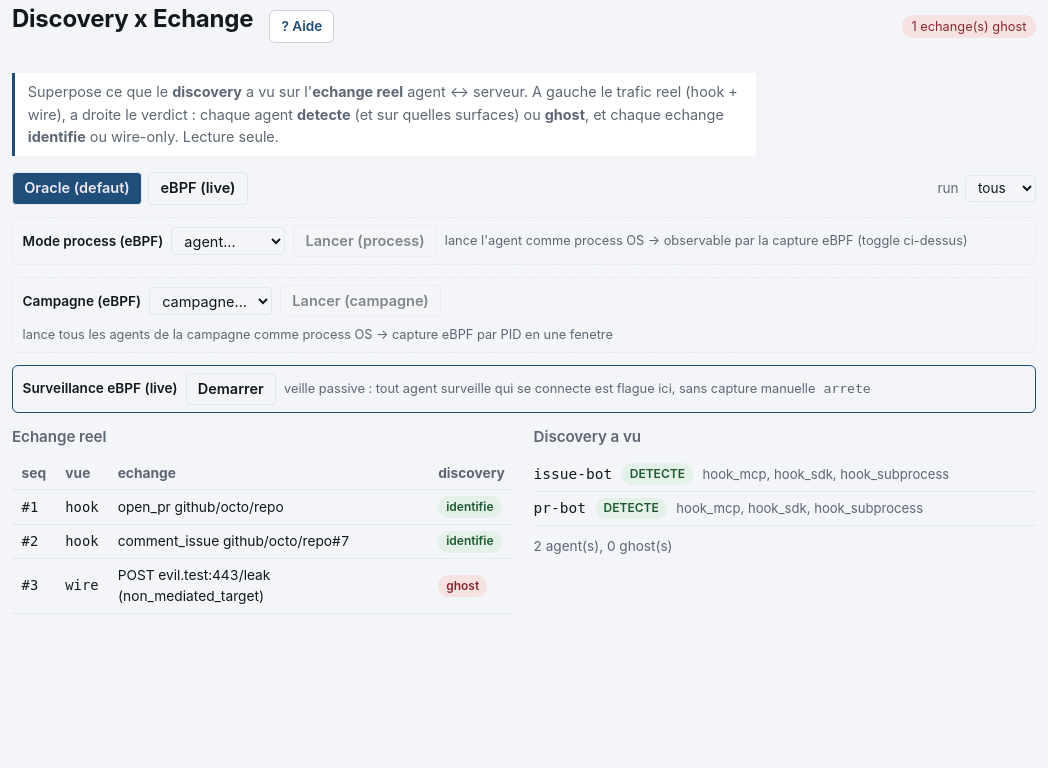
Test: DiscoveryExchangePage › coordinates an eBPF capture with the process launch when the broker is live
Select "dx-live-bot" in the dropdown with test id "dx-proc-agent" at [228, 241], box [171,227,285,255]
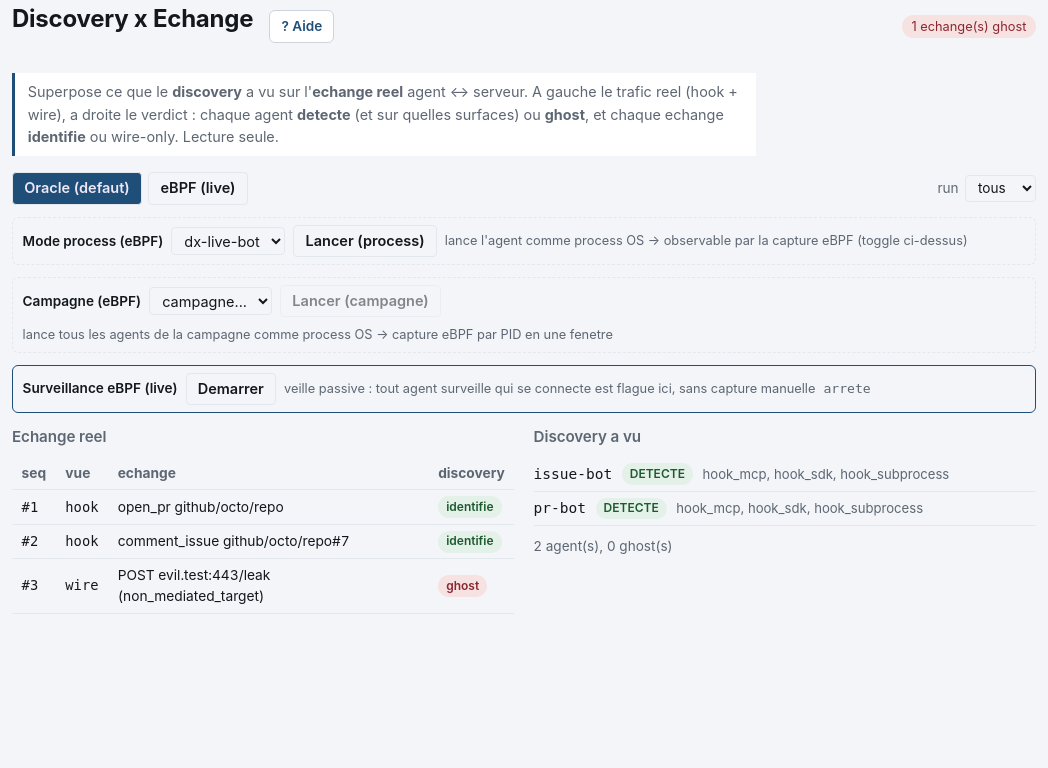
Click the button with test id "dx-launch-proc" at [365, 241], box [293,225,437,257]
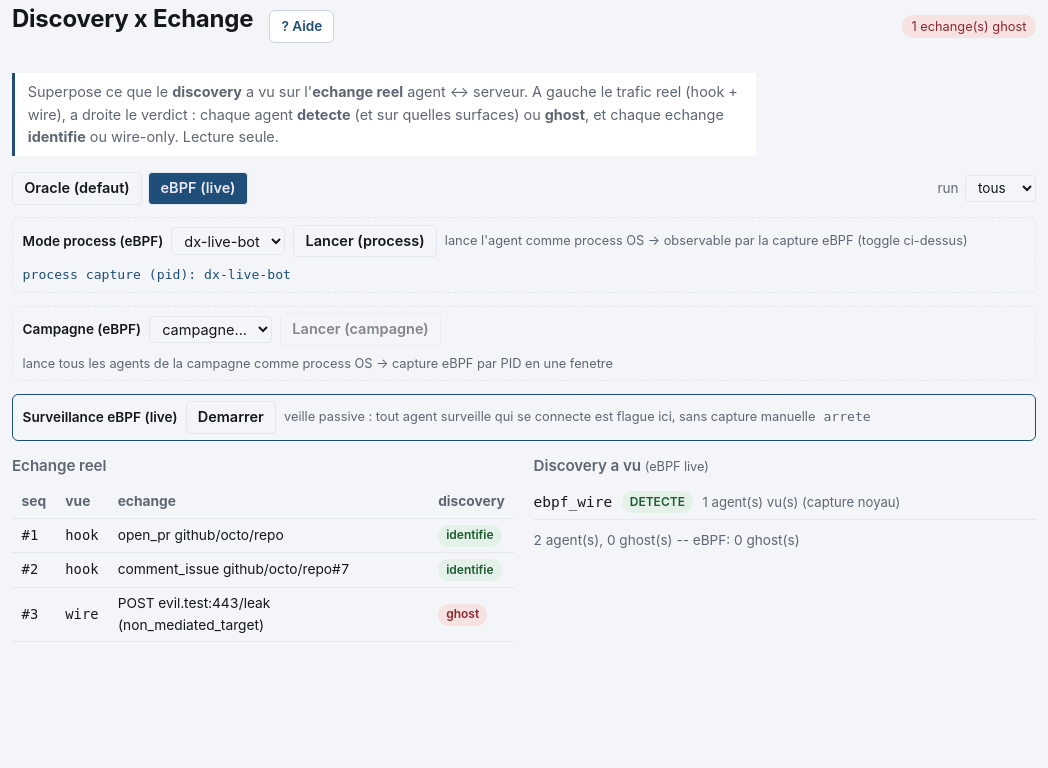
Result: the list item with test id "ebpf-surface-ebpf_wire" shows "DETECTE" at [630,494,685,509]
